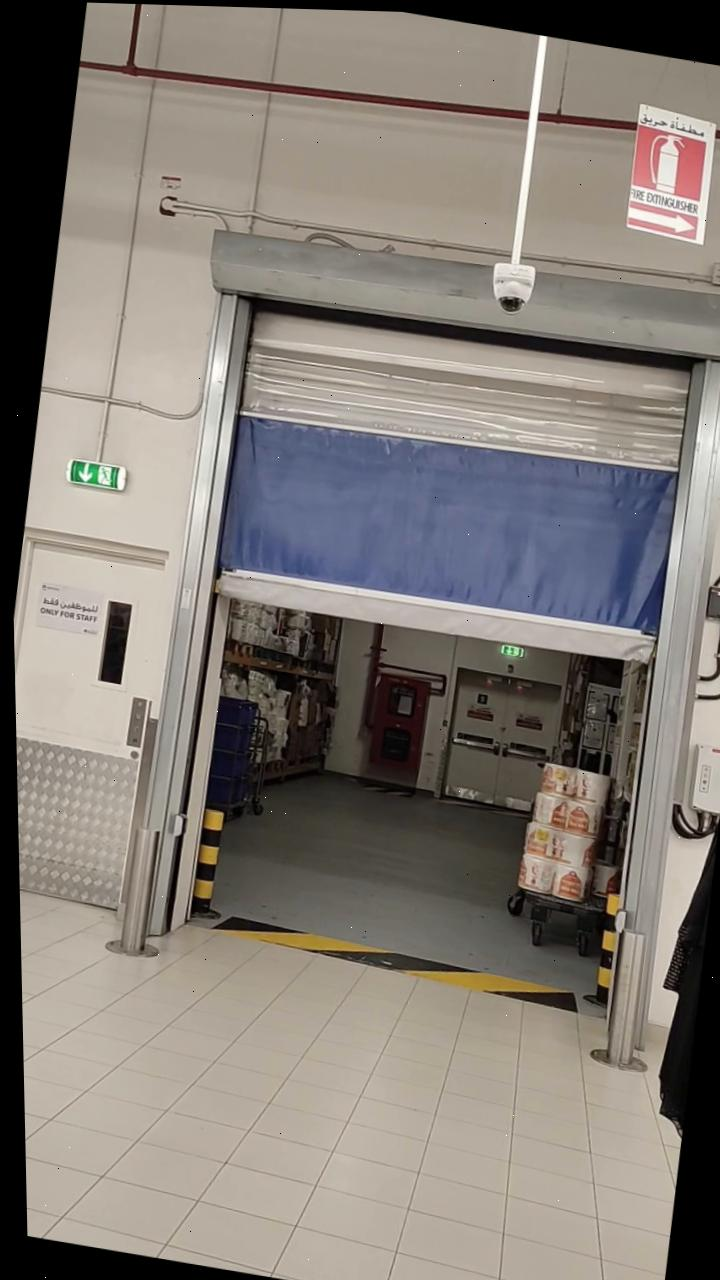Strip: (210, 908, 576, 1009)
